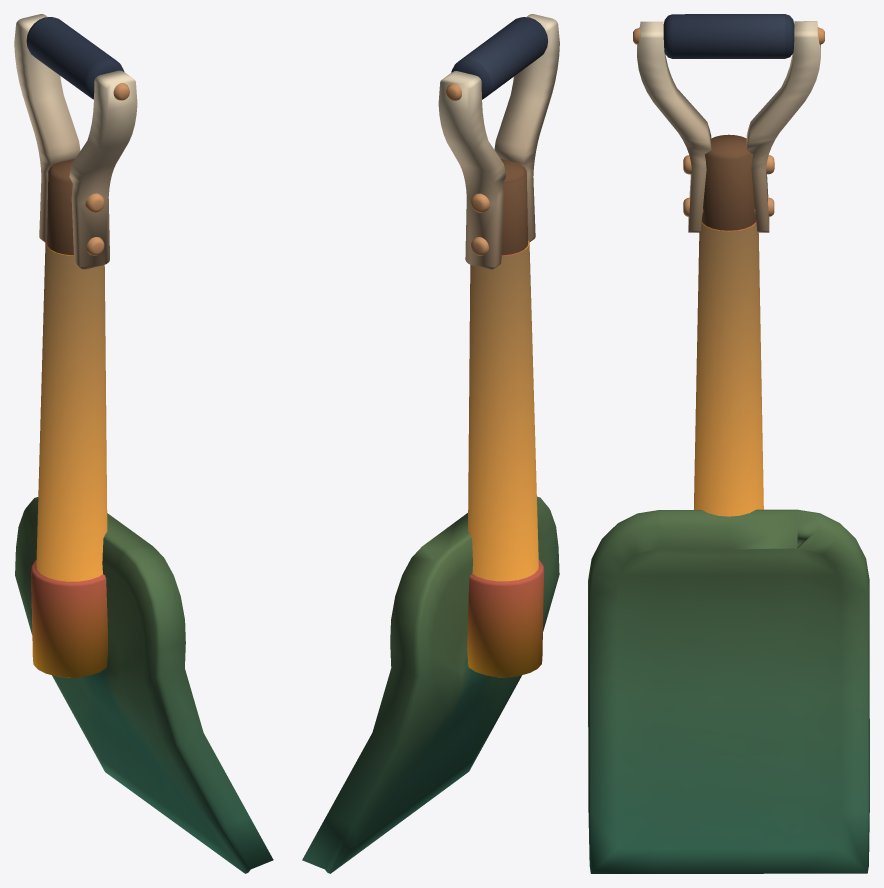
The model's file is shovel4.fbx.
3 renders of one model, left to right at view 1: azimuth 30°, elevation 25°; view 2: azimuth 150°, elevation 25°; view 3: azimuth 270°, elevation 25°, orthographic.
Parts seen in each view (by area): view 1: shovel2; view 2: shovel2; view 3: shovel2.
Part boxes in pixels (x1,y1,x2,y2): shovel2: [14, 14, 273, 873]; shovel2: [302, 14, 559, 873]; shovel2: [588, 14, 869, 873].
Bounding box in the file's own units: 0.3393 × 1.56 × 0.4975.
